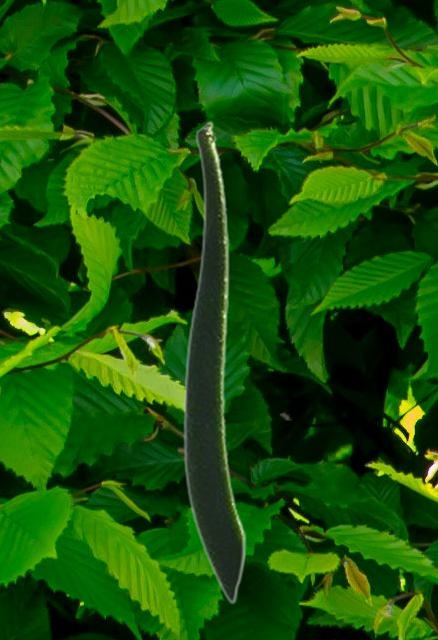french_bean: (182, 120, 246, 604)
